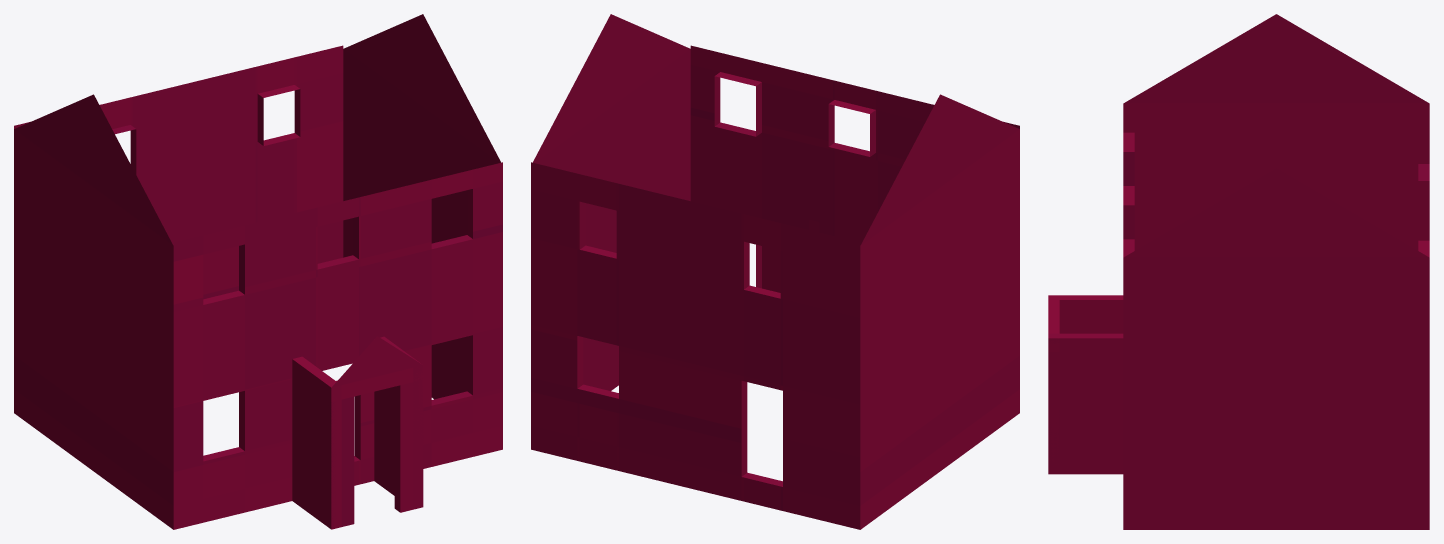
File: SM_Bld_234_Masonry.glb
The picture shows the model from 3 angles, left to right: view 1: azimuth 30°, elevation 25°; view 2: azimuth 150°, elevation 25°; view 3: azimuth 270°, elevation 25°; orthographic projection. The views are drawn at different scales.
Parts seen in each view (by area): view 1: SM_Bld_234_Masonry; view 2: SM_Bld_234_Masonry; view 3: SM_Bld_234_Masonry.
Part boxes in pixels (x1,y1,x2,y2): SM_Bld_234_Masonry: [14, 14, 502, 529]; SM_Bld_234_Masonry: [531, 14, 1019, 529]; SM_Bld_234_Masonry: [1048, 14, 1429, 529].
Size of the model in its own units: 7.16 by 7.84 by 7.48.
